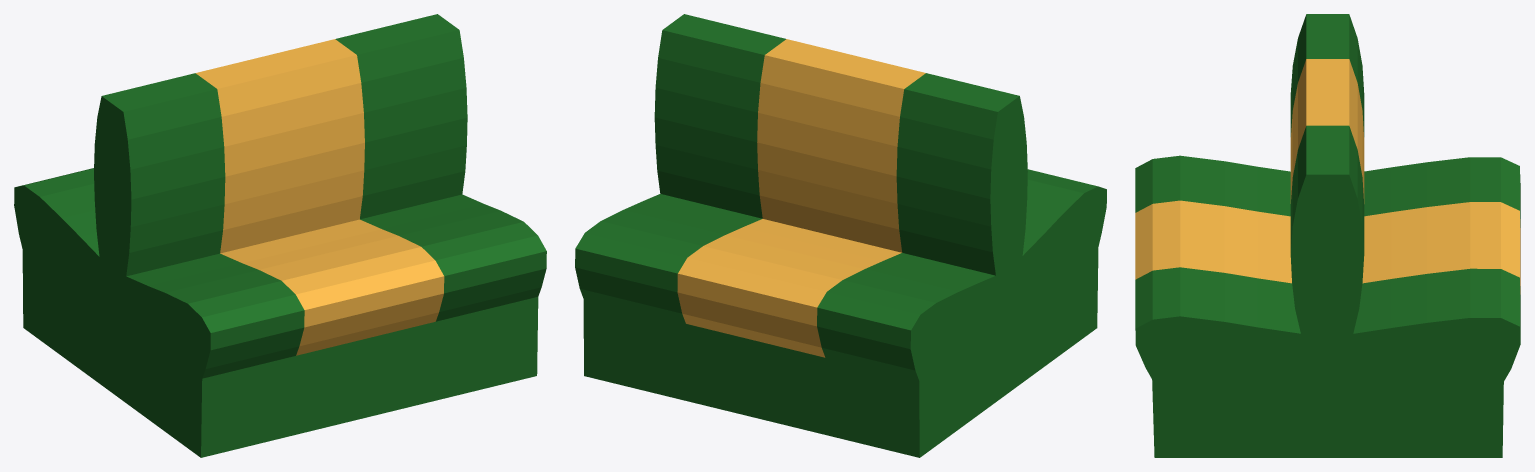
File: sofa_2.fbx
3 renders of one model, left to right at view 1: azimuth 30°, elevation 25°; view 2: azimuth 150°, elevation 25°; view 3: azimuth 270°, elevation 25°, orthographic. The views are drawn at different scales.
Parts seen in each view (by area): view 1: sofa_3; view 2: sofa_3; view 3: sofa_3.
Part boxes in pixels (x1,y1,x2,y2): sofa_3: [14, 14, 546, 457]; sofa_3: [575, 14, 1106, 457]; sofa_3: [1135, 14, 1520, 457].
Bounding box in the file's own units: 2.91 × 2.4 × 2.95.
